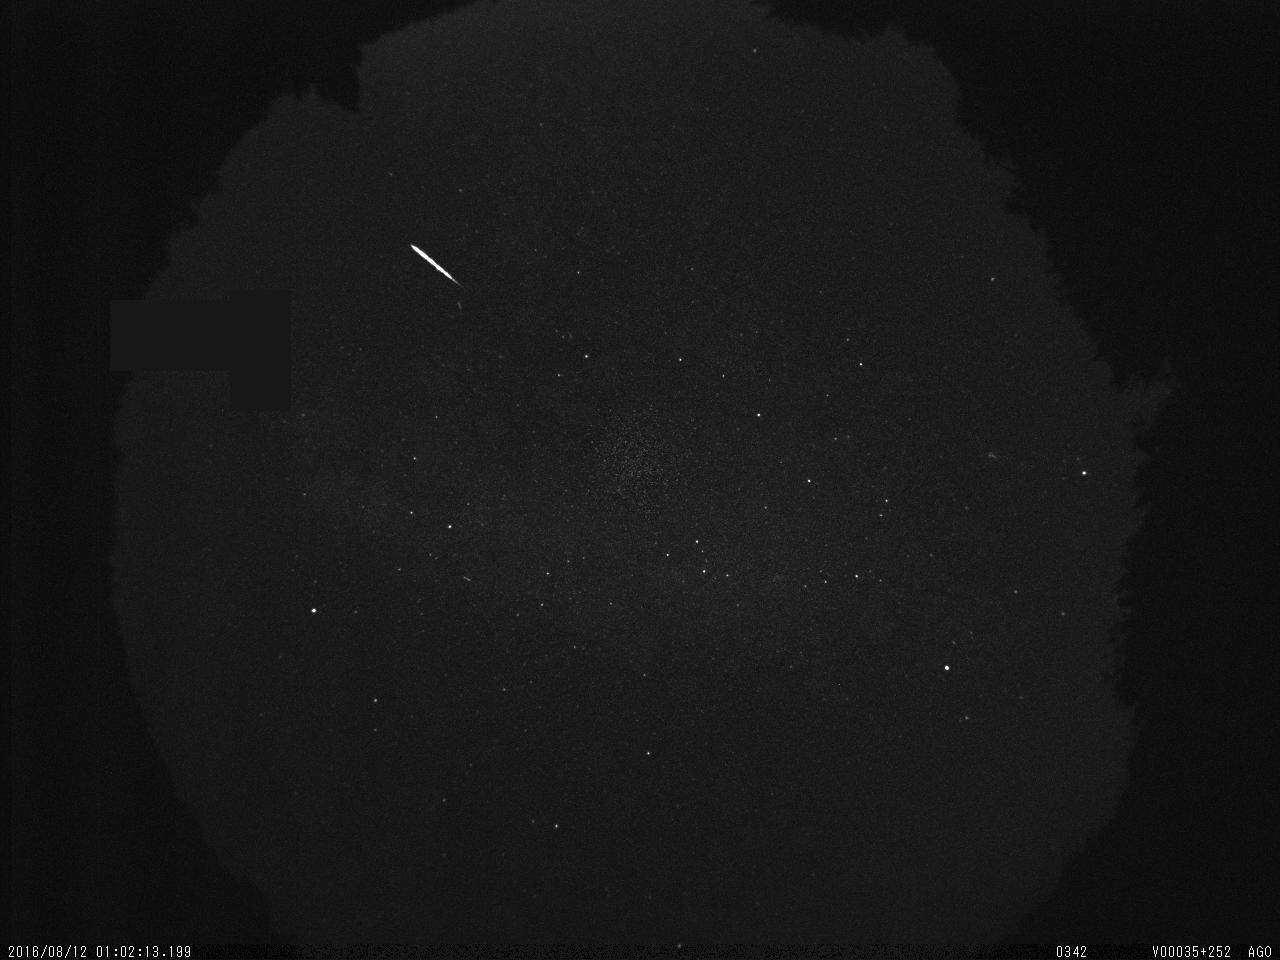meteor: (399, 240, 466, 292)
